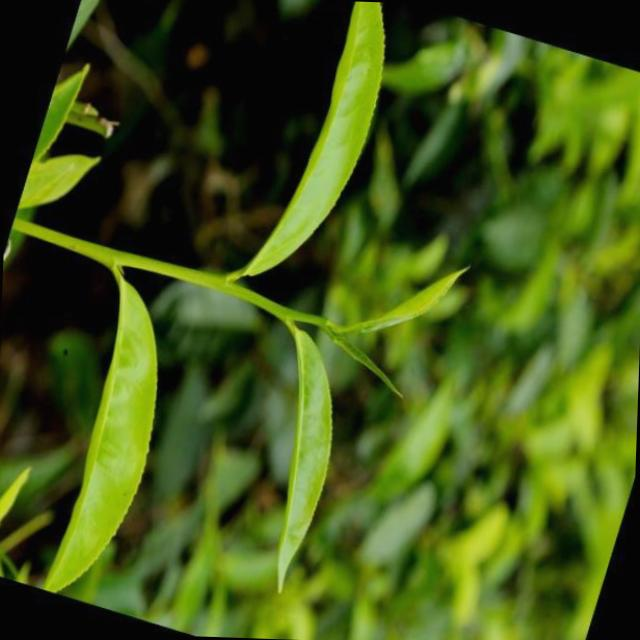Stem: (271, 303, 290, 321)
